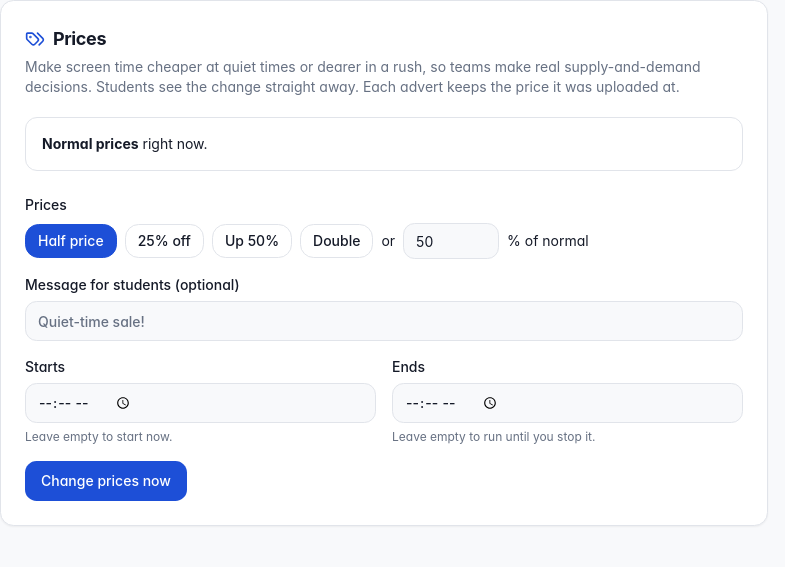
Test: PricesPanel (issue #41) › won't allow a silly percentage
Check: the text "Normal prices" is shown, box [42,135,139,152]
Replace the text in the number field named "Percent of normal price" with "500". click: coordinates (451, 241)
box: [403,223,499,259]
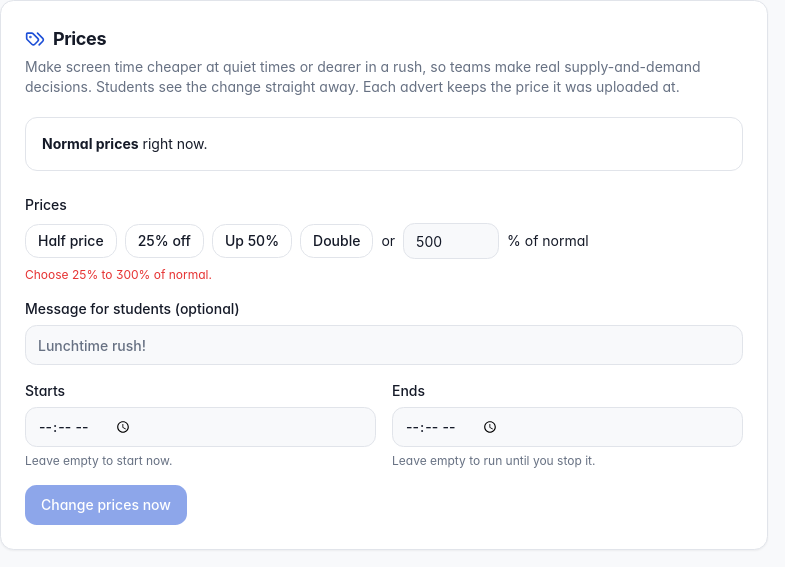
Check: the text "Choose 25% to 300% of normal." is shown, box [25,267,212,282]
Check: the button "Change prices now" is disabled, box [25,485,187,525]
